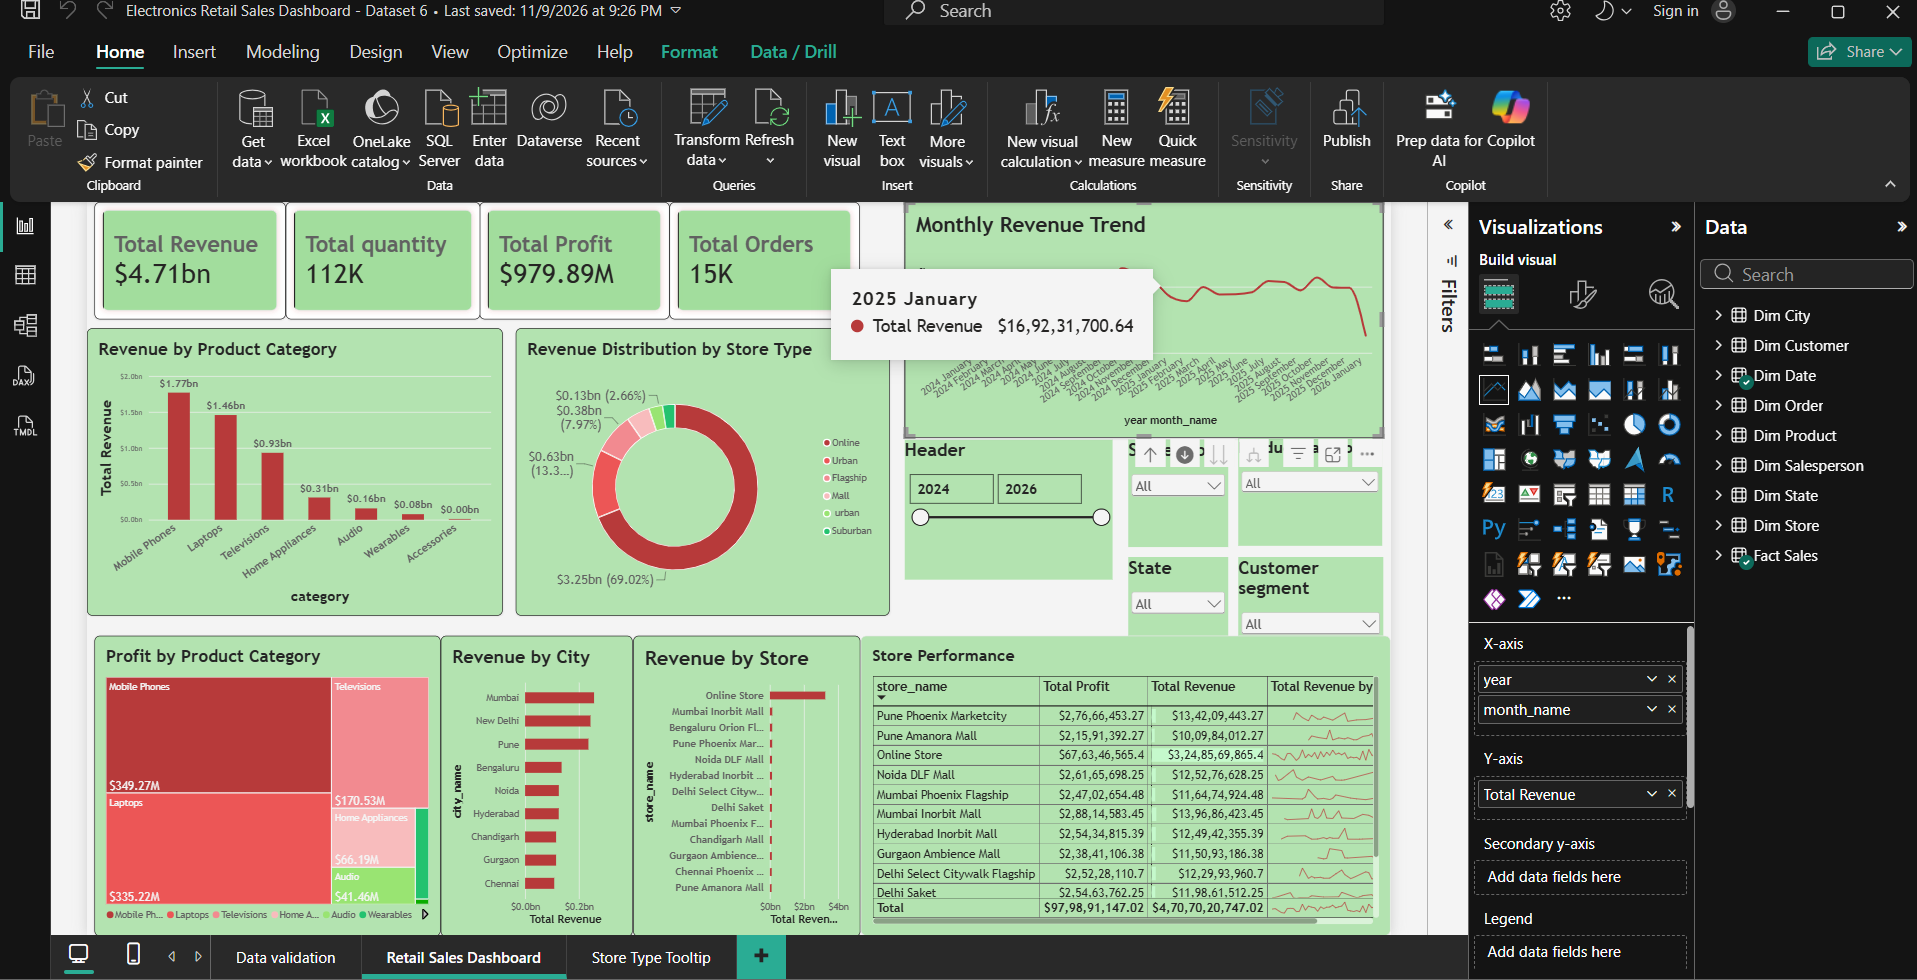

Layout of this report page (visuals, bound fields, positions):
{"tool":"powerbi","page":{"name":"Retail Sales Dashboard","canvas":[1920,1080],"ordinal":1},"visuals":[{"type":"cardVisual","fields":{"Data":["Fact Sales.Total Revenue"]},"box":[10.3,0,282,172.9],"z":0},{"type":"cardVisual","fields":{"Data":["Fact Sales.Total Profit"]},"box":[578.4,0,279.9,172.9],"z":1000},{"type":"cardVisual","fields":{"Data":["Fact Sales.Total Orders"]},"box":[858.3,0,279.9,172.9],"z":2000},{"type":"cardVisual","fields":{"Data":["Fact Sales.Total quantity"]},"box":[292.3,0,286.1,172.9],"z":3000},{"type":"clusteredColumnChart","title":"Revenue by Product Category","fields":{"Category":["Dim Product.category","Dim Product.subcategory"],"Y":["Fact Sales.Total Revenue"]},"box":[0,186.6,612,423.6],"z":4000},{"type":"treemap","title":"Profit by Product Category","fields":{"Group":["Dim Product.category"],"Values":["Fact Sales.Total Profit"]},"box":[11.2,638.2,509.4,442.2],"z":5000},{"type":"clusteredBarChart","title":"Revenue by Store","fields":{"Category":["Dim Store.store_name"],"Y":["Fact Sales.Total Revenue"]},"box":[804.2,638.2,334.8,443.4],"z":6000},{"type":"lineChart","title":" Monthly Revenue Trend","fields":{"Category":["Dim Date.year","Dim Date.month_name"],"Y":["Fact Sales.Total Revenue"]},"box":[1203.4,0,705.8,347.5],"z":7000},{"type":"donutChart","title":"Revenue Distribution by Store Type","fields":{"Category":["Dim Store.store_type"],"Y":["Fact Sales.Total Revenue"]},"box":[630.7,186.6,550.5,423.6],"z":8000},{"type":"clusteredBarChart","title":"Revenue by City","fields":{"Category":["Dim City.city_name"],"Y":["Fact Sales.Total Revenue"]},"box":[520.6,638.2,282.3,443.4],"z":9000},{"type":"slicer","title":"Product category","fields":{"Values":["Dim Product.category"]},"box":[1695.1,347.9,211.7,158.3],"z":10000},{"type":"slicer","title":"Store type","fields":{"Values":["Dim Store.store_type"]},"box":[1533.1,349.7,147.2,158.3],"z":11000},{"type":"slicer","title":"Customer segment","fields":{"Values":["Dim Customer.customer_segment"]},"box":[1695.1,522.7,213.5,116],"z":12000},{"type":"slicer","title":"State","fields":{"Values":["Dim State.state_name"]},"box":[1533.1,522.7,147.2,116],"z":13000},{"type":"slicer","title":"Header","fields":{"Values":["Dim Date.year"]},"box":[1203.5,348.9,306,206],"z":14000},{"type":"tableEx","title":"Store Performance","fields":{"Values":["Dim Store.store_name","Fact Sales.Total Profit","Fact Sales.Total Revenue","SparklineData(Fact Sales.Total Revenue_[Dim Date.full_date])"]},"box":[1139.3,638.7,780.4,441.7],"z":14001}]}

Visuals, with their boxes on the page's 1920x1080 design canvas (x1, y1, x2, y2). These are canvas units, not pixel positions in the 1917x980 screenshot, which may show the page scaled, cropped or inside an application window:
cardVisual - Fact Sales.Total Revenue: x1=10, y1=0, x2=292, y2=173
cardVisual - Fact Sales.Total Profit: x1=578, y1=0, x2=858, y2=173
cardVisual - Fact Sales.Total Orders: x1=858, y1=0, x2=1138, y2=173
cardVisual - Fact Sales.Total quantity: x1=292, y1=0, x2=578, y2=173
"Revenue by Product Category" clusteredColumnChart: x1=0, y1=187, x2=612, y2=610
"Profit by Product Category" treemap: x1=11, y1=638, x2=521, y2=1080
"Revenue by Store" clusteredBarChart: x1=804, y1=638, x2=1139, y2=1082
" Monthly Revenue Trend" lineChart: x1=1203, y1=0, x2=1909, y2=348
"Revenue Distribution by Store Type" donutChart: x1=631, y1=187, x2=1181, y2=610
"Revenue by City" clusteredBarChart: x1=521, y1=638, x2=803, y2=1082
"Product category" slicer: x1=1695, y1=348, x2=1907, y2=506
"Store type" slicer: x1=1533, y1=350, x2=1680, y2=508
"Customer segment" slicer: x1=1695, y1=523, x2=1909, y2=639
"State" slicer: x1=1533, y1=523, x2=1680, y2=639
"Header" slicer: x1=1204, y1=349, x2=1510, y2=555
"Store Performance" tableEx: x1=1139, y1=639, x2=1920, y2=1080
